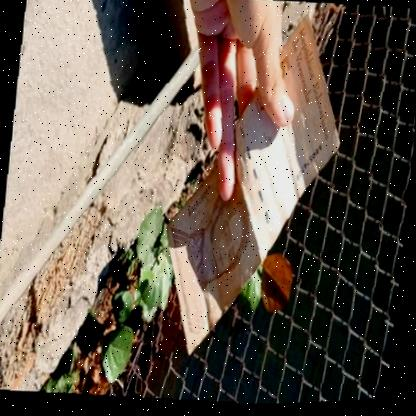five-front-vef: (156, 6, 351, 368)
